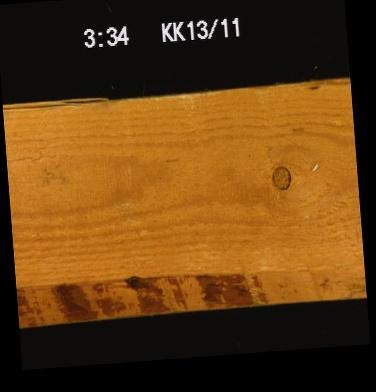dry_knot: (269, 163, 291, 189)
wave: (17, 266, 365, 311), (300, 77, 350, 92)
